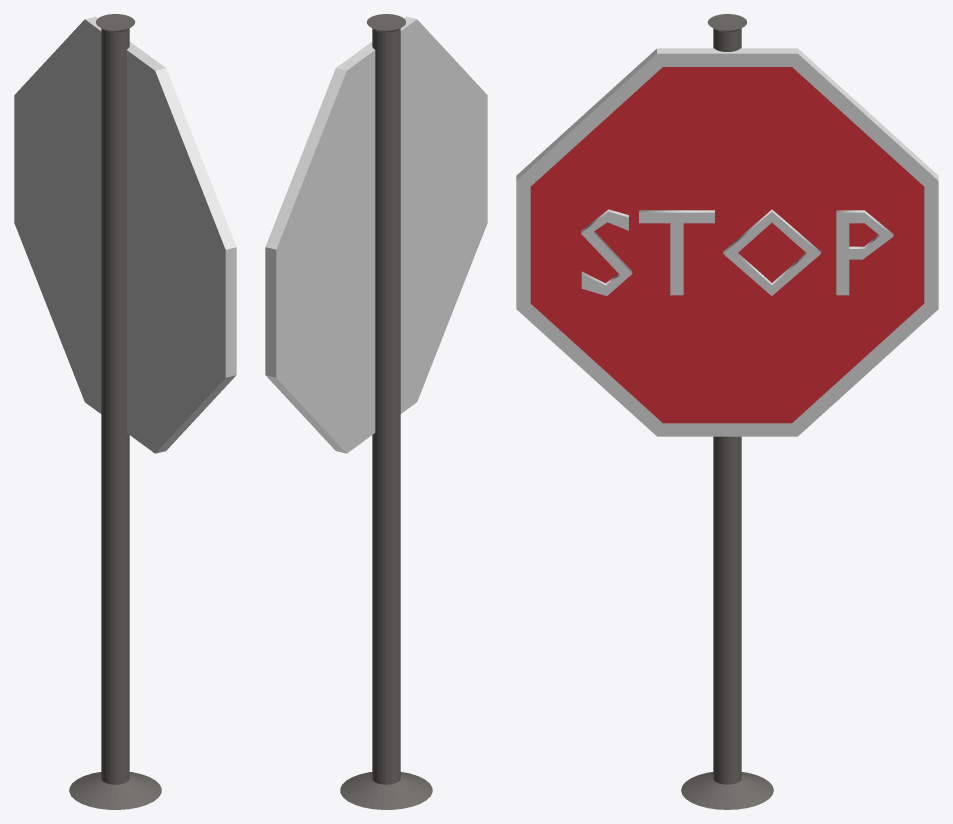
File: stopsign.fbx
The picture shows the model from 3 angles, left to right: view 1: azimuth 30°, elevation 25°; view 2: azimuth 150°, elevation 25°; view 3: azimuth 270°, elevation 25°; orthographic projection.
Visible parts, largest first — view 1: Plane, Cylinder.010; view 2: Plane, Cylinder.010; view 3: Plane, Cylinder.010, Text.
Part boxes in pixels (bbox=[...]): Plane: bbox=[14, 16, 236, 453]; Cylinder.010: bbox=[69, 14, 161, 809]; Plane: bbox=[265, 16, 487, 453]; Cylinder.010: bbox=[340, 14, 432, 809]; Plane: bbox=[516, 48, 938, 436]; Cylinder.010: bbox=[681, 14, 773, 809]; Text: bbox=[581, 209, 893, 295].
Bounding box in the file's own units: 43.95 × 401 × 200.
